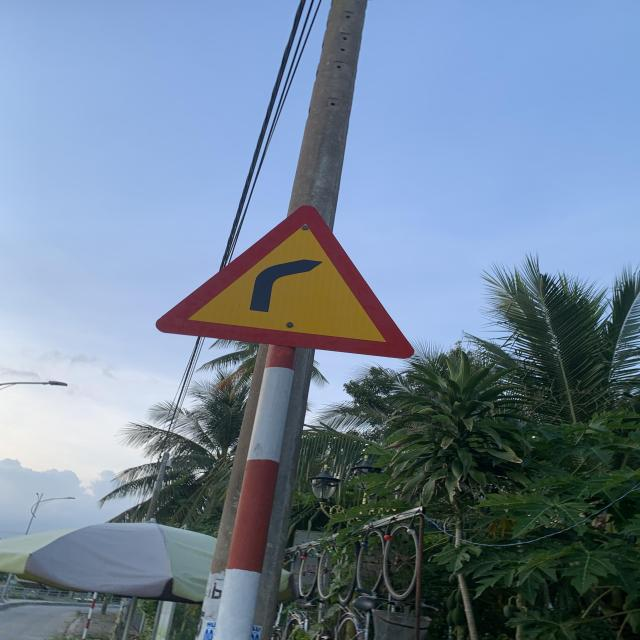Duong_Nguoi_Di_Bo_Cat_Ngang: (154, 199, 412, 358)
